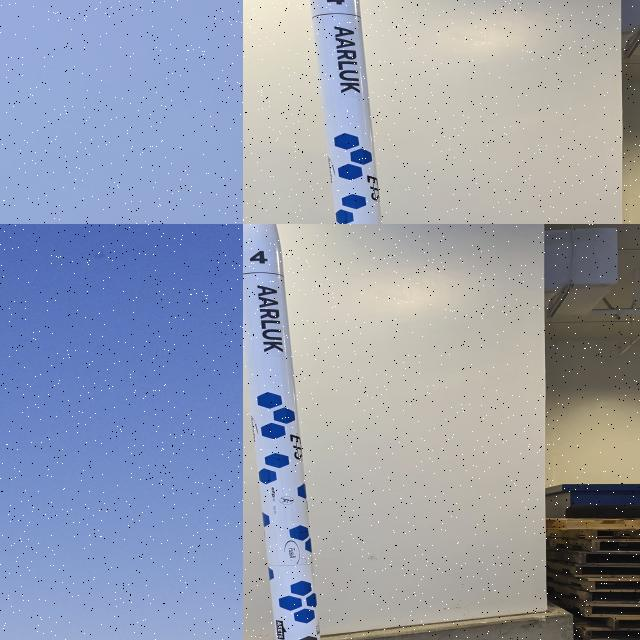Rocket: (243, 224, 321, 640), (310, 0, 382, 224)
